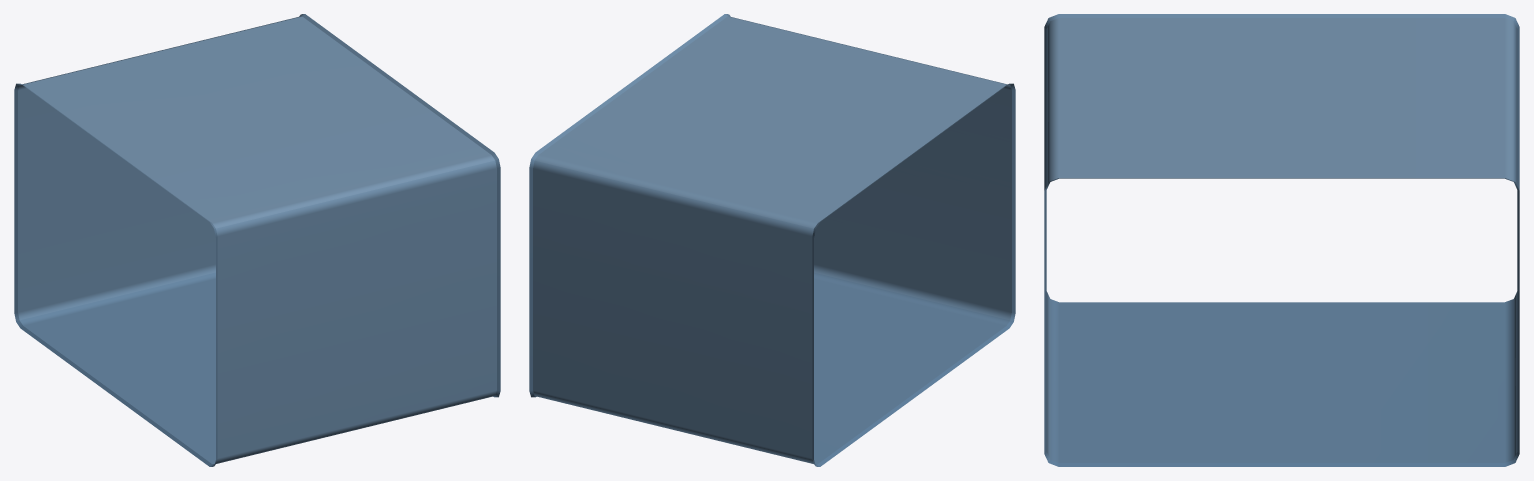
The model's file is vent_3.fbx.
3 views of the same model, side by side, from view 1: azimuth 30°, elevation 25°; view 2: azimuth 150°, elevation 25°; view 3: azimuth 270°, elevation 25° (orthographic). The views are drawn at different scales.
Visible parts, largest first — view 1: vent_3; view 2: vent_3; view 3: vent_3.
Part boxes in pixels (x1,y1,x2,y2): vent_3: [14, 14, 500, 466]; vent_3: [529, 14, 1015, 466]; vent_3: [1044, 14, 1519, 466].
Size of the model in its own units: 49.47 by 40.65 by 60.63.
